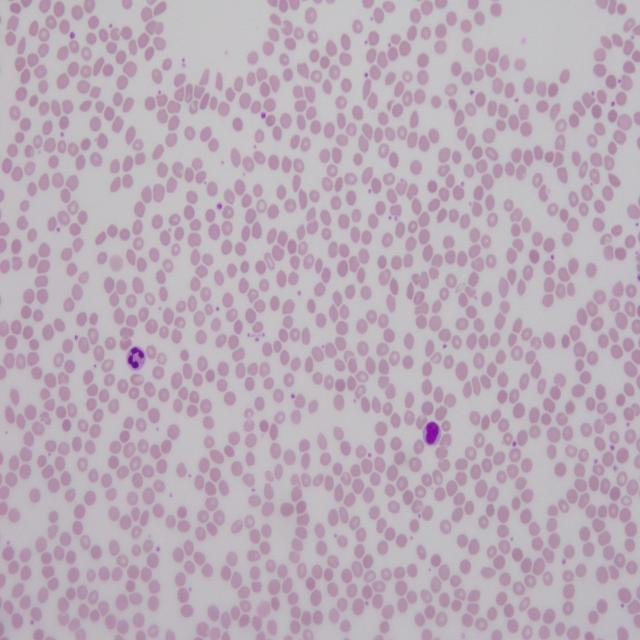cell: (128, 346, 145, 370)
